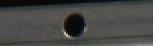holes: (62, 12, 87, 39)
